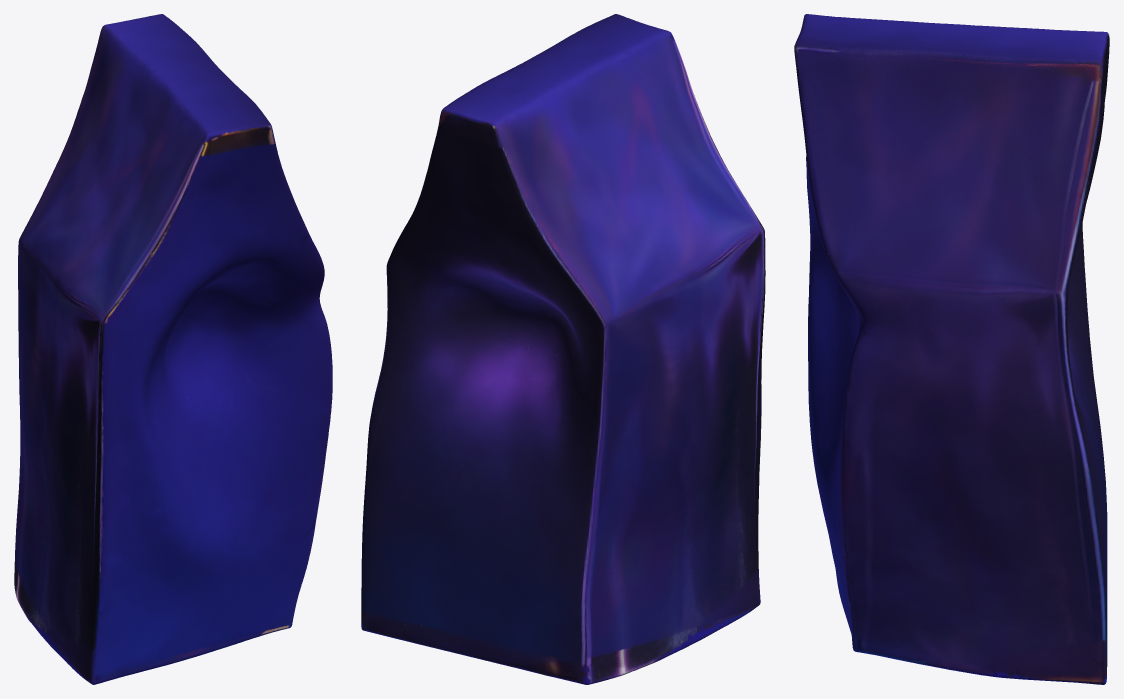
The picture shows the model from 3 angles, left to right: view 1: azimuth 30°, elevation 25°; view 2: azimuth 150°, elevation 25°; view 3: azimuth 270°, elevation 25°; orthographic projection. The views are drawn at different scales.
Visible parts, largest first — view 1: Mesh_0; view 2: Mesh_0; view 3: Mesh_0.
Part boxes in pixels (x1,y1,x2,y2): Mesh_0: (14,14,332,684); Mesh_0: (361,14,765,684); Mesh_0: (794,14,1109,684).
Bounding box in the file's own units: 1.01 × 1.91 × 0.9334.
Materials: 1 (1 with a texture image).
